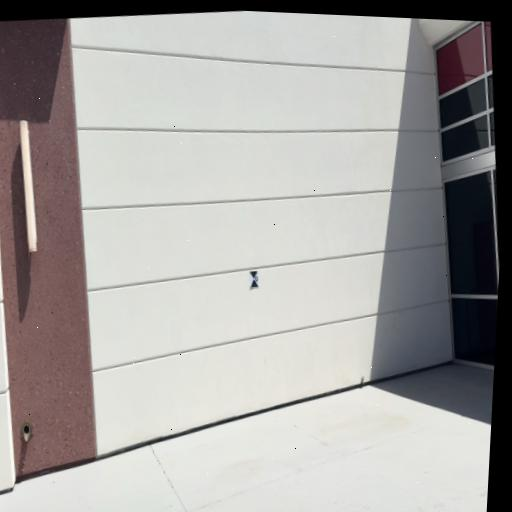target0: (248, 270, 260, 288)
